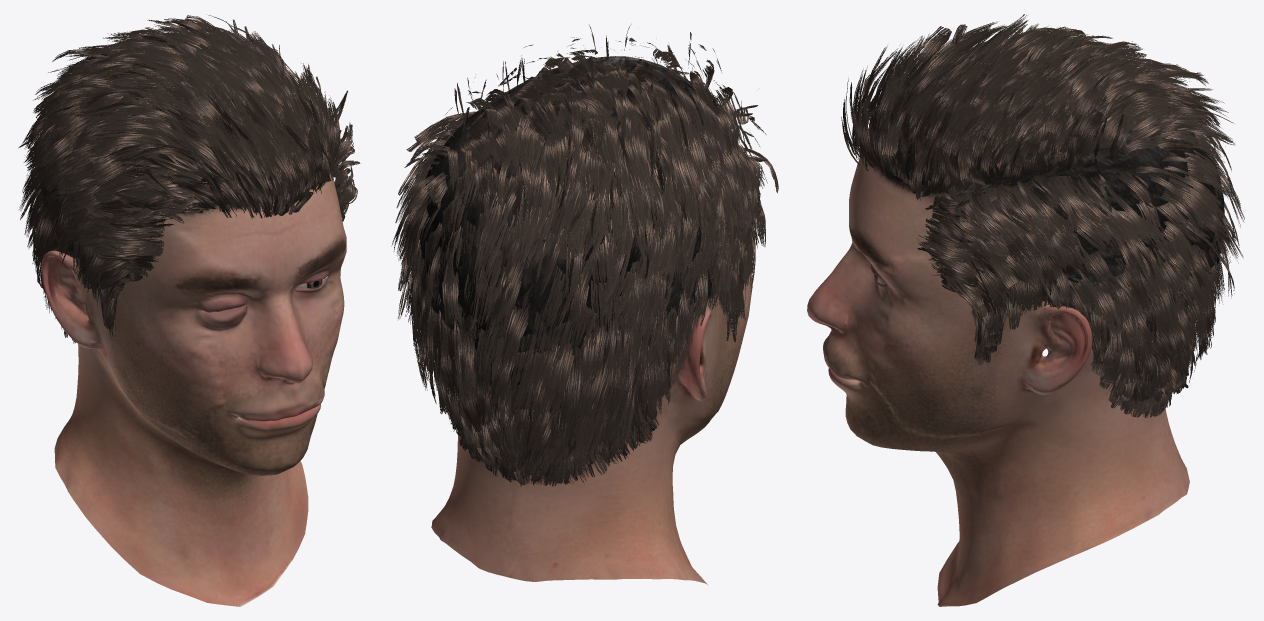
The picture shows the model from 3 angles, left to right: view 1: azimuth 30°, elevation 25°; view 2: azimuth 150°, elevation 25°; view 3: azimuth 270°, elevation 25°; orthographic projection. The views are drawn at different scales.
Parts seen in each view (by area): view 1: Skin, Hair, ScalpHead; view 2: Hair, Skin, ScalpHead; view 3: Hair, Skin, ScalpHead.
Part boxes in pixels (box(x1,y1,x2,y2)): Skin: box(41, 170, 346, 606); Hair: box(18, 15, 360, 343); ScalpHead: box(41, 62, 330, 254); Hair: box(391, 25, 778, 486); Skin: box(431, 59, 753, 584); ScalpHead: box(418, 56, 737, 476); Hair: box(841, 14, 1244, 417); Skin: box(807, 82, 1189, 606); ScalpHead: box(867, 57, 1224, 367).
Bounding box in the file's own units: 0.8798 × 1.64 × 1.16.
5 materials, 4 textured.
